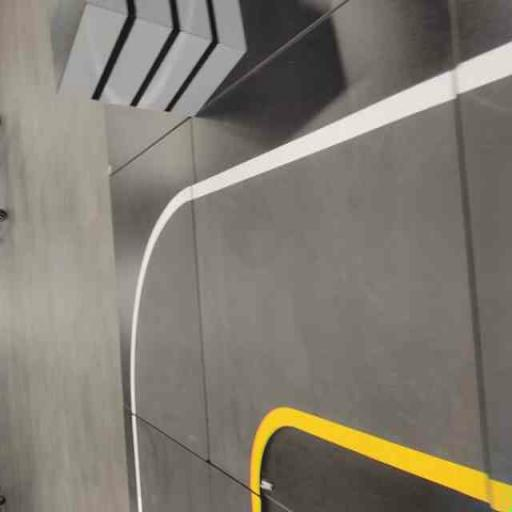left: (80, 142, 322, 494)
